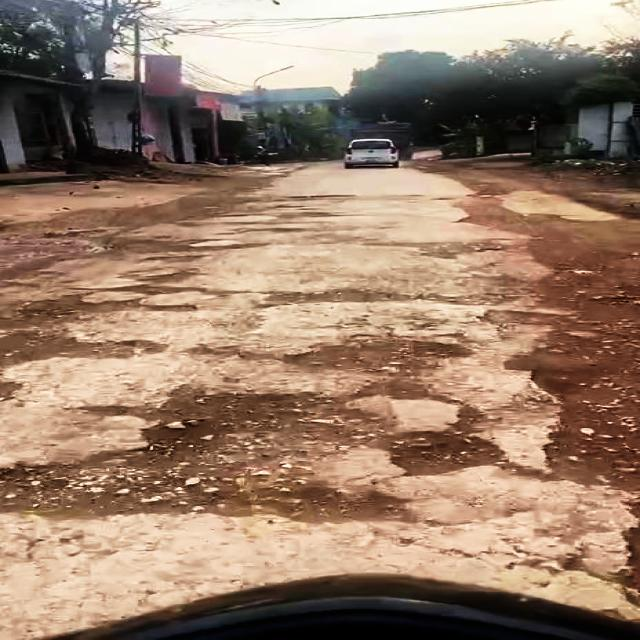pothole: (3, 386, 495, 524), (495, 349, 640, 489), (25, 268, 251, 315), (294, 333, 474, 379), (434, 291, 578, 337), (0, 331, 170, 369), (262, 283, 412, 308), (364, 237, 508, 261)
